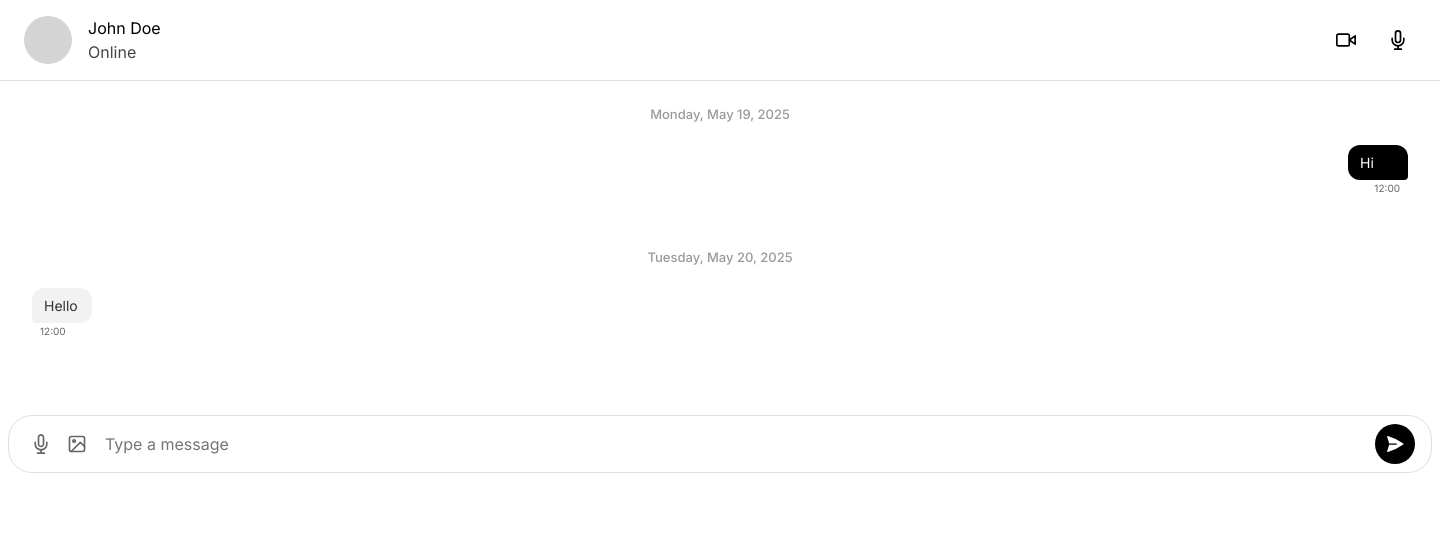
Test: ChatArea › handles null messagesEndRef gracefully
Check: the text "Hi" is shown, box [1348,144,1408,180]
Check: the text "Monday, May 19, 2025" is shown, box [650,105,790,124]
# Trigger a re-render by sending a new message
Type "Test" into the field with test id "message-input" at {"x": 734, "y": 444}, box [105,426,1363,462]
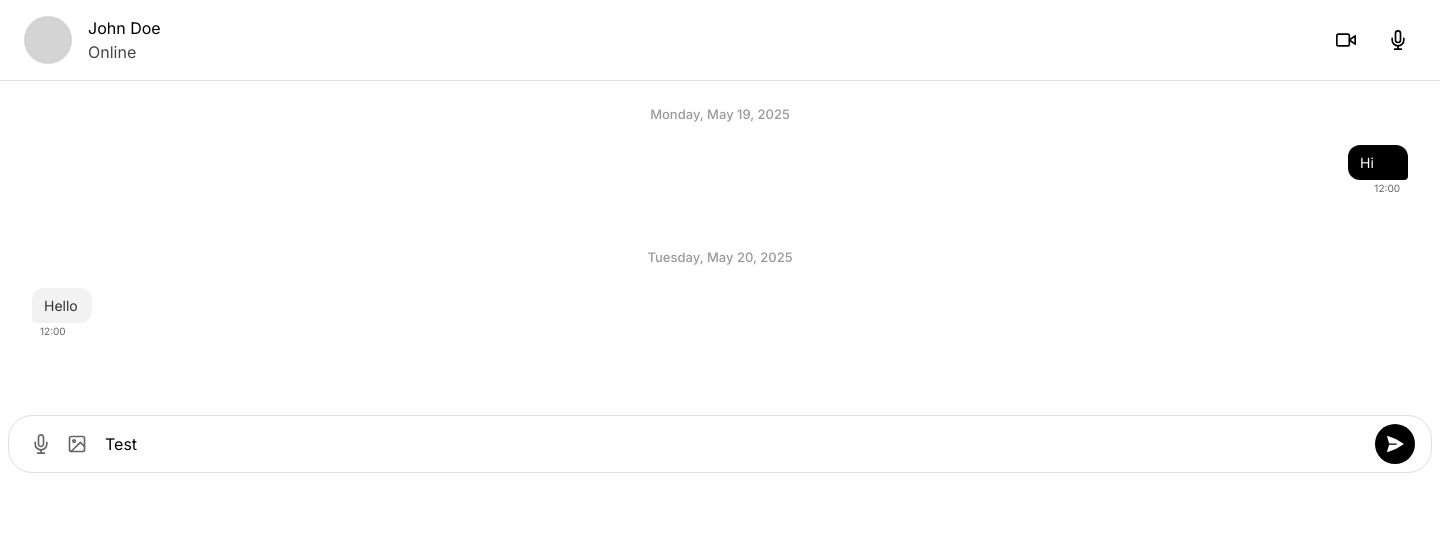
Click the button with test id "send-button" at {"x": 1395, "y": 444}, box [1375,424,1415,464]
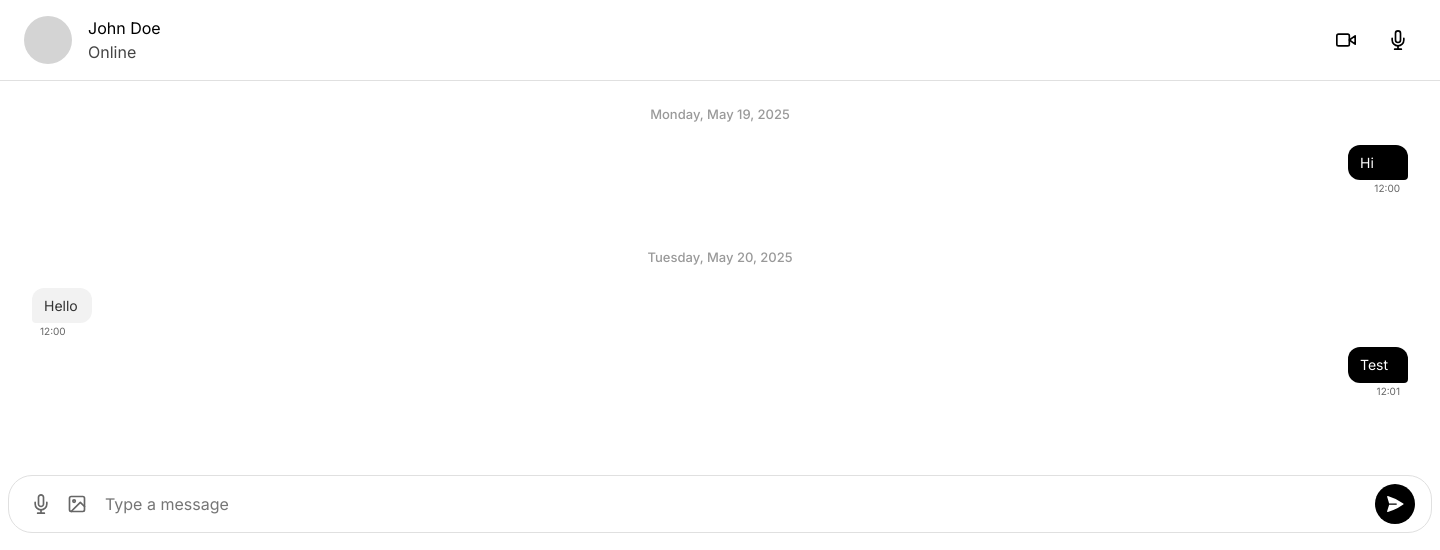
Check: the text "Test" is shown, box [1348,347,1408,383]
